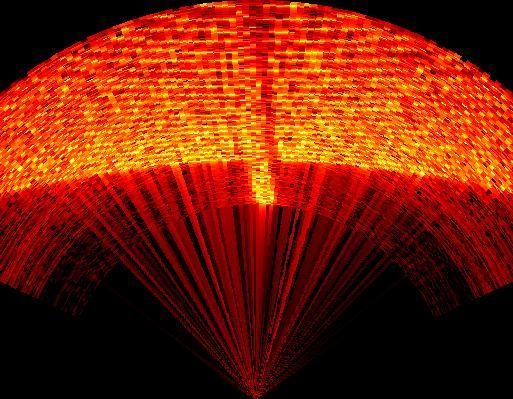pipe: (240, 4, 278, 162)
